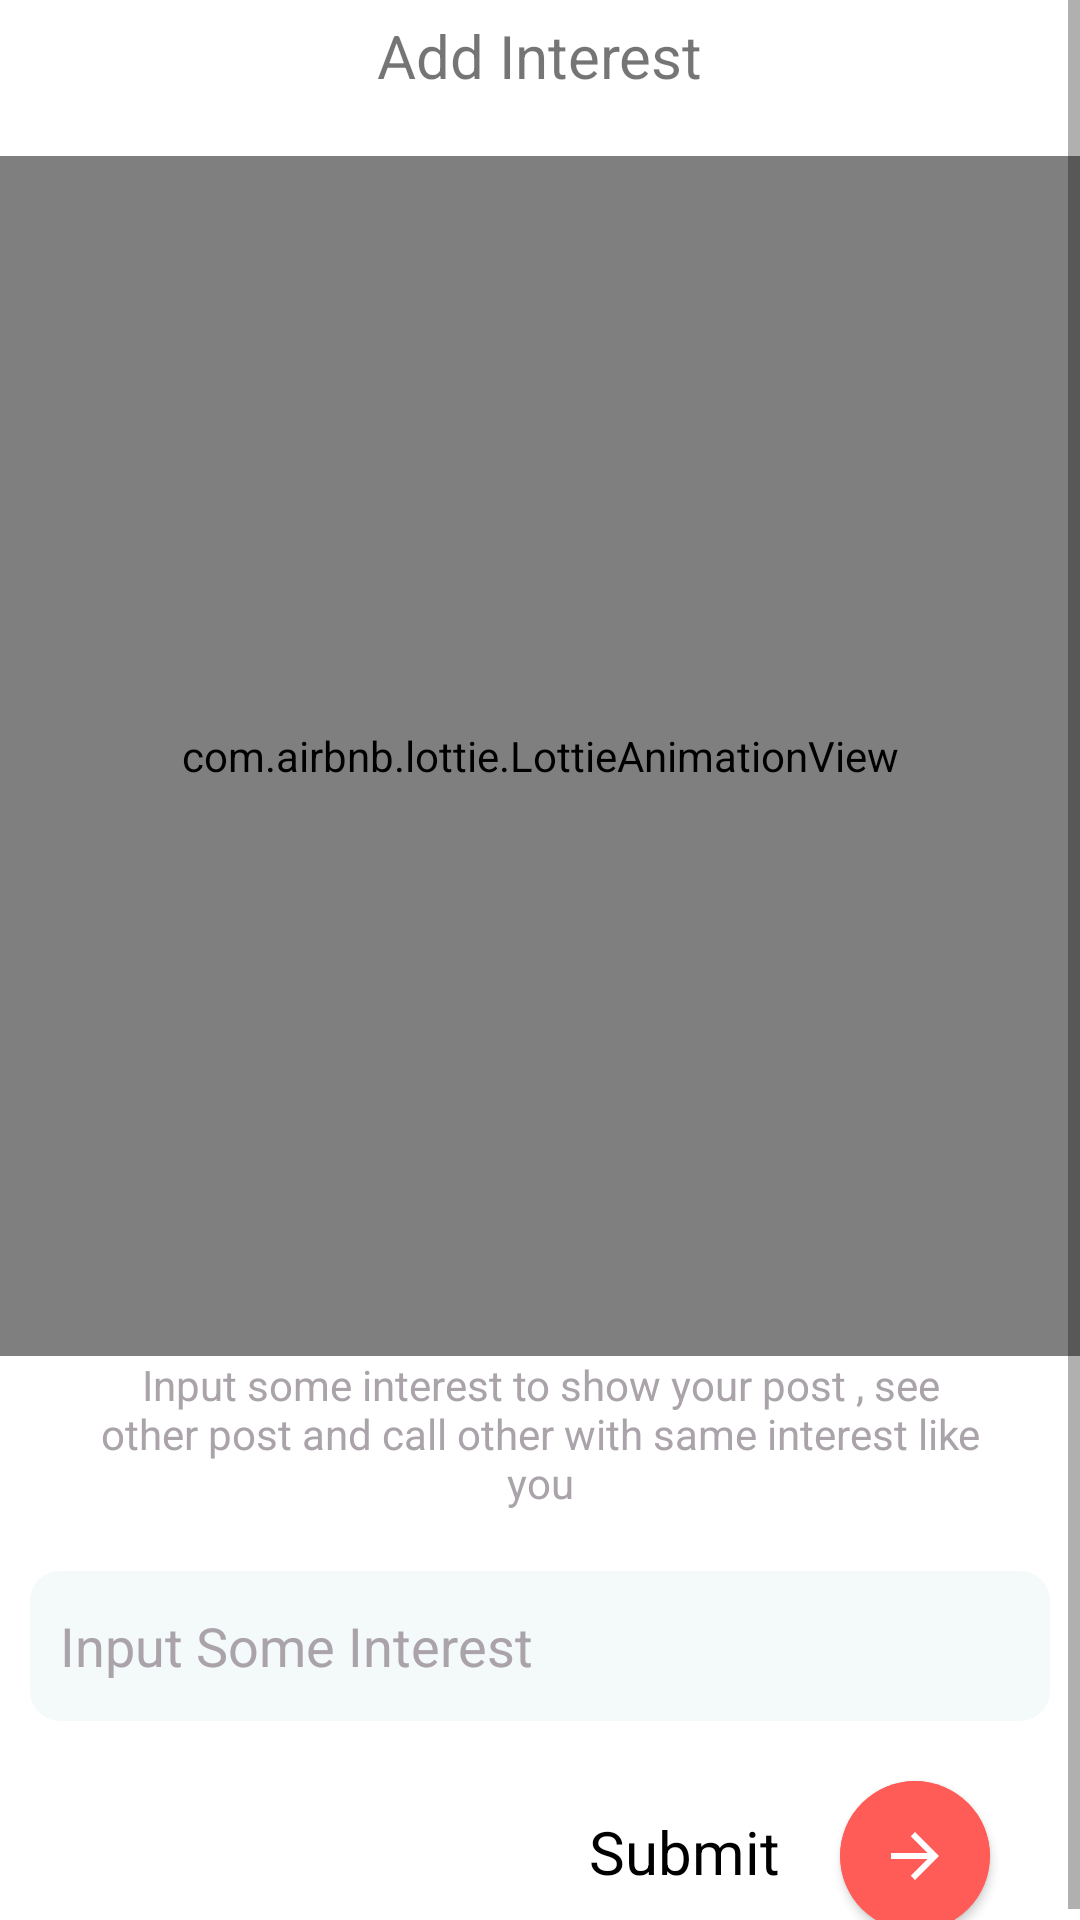

Named icons in this screenshot (1080px x 1920px) and their centers, [x,y]:
arrow: [915,1850]
